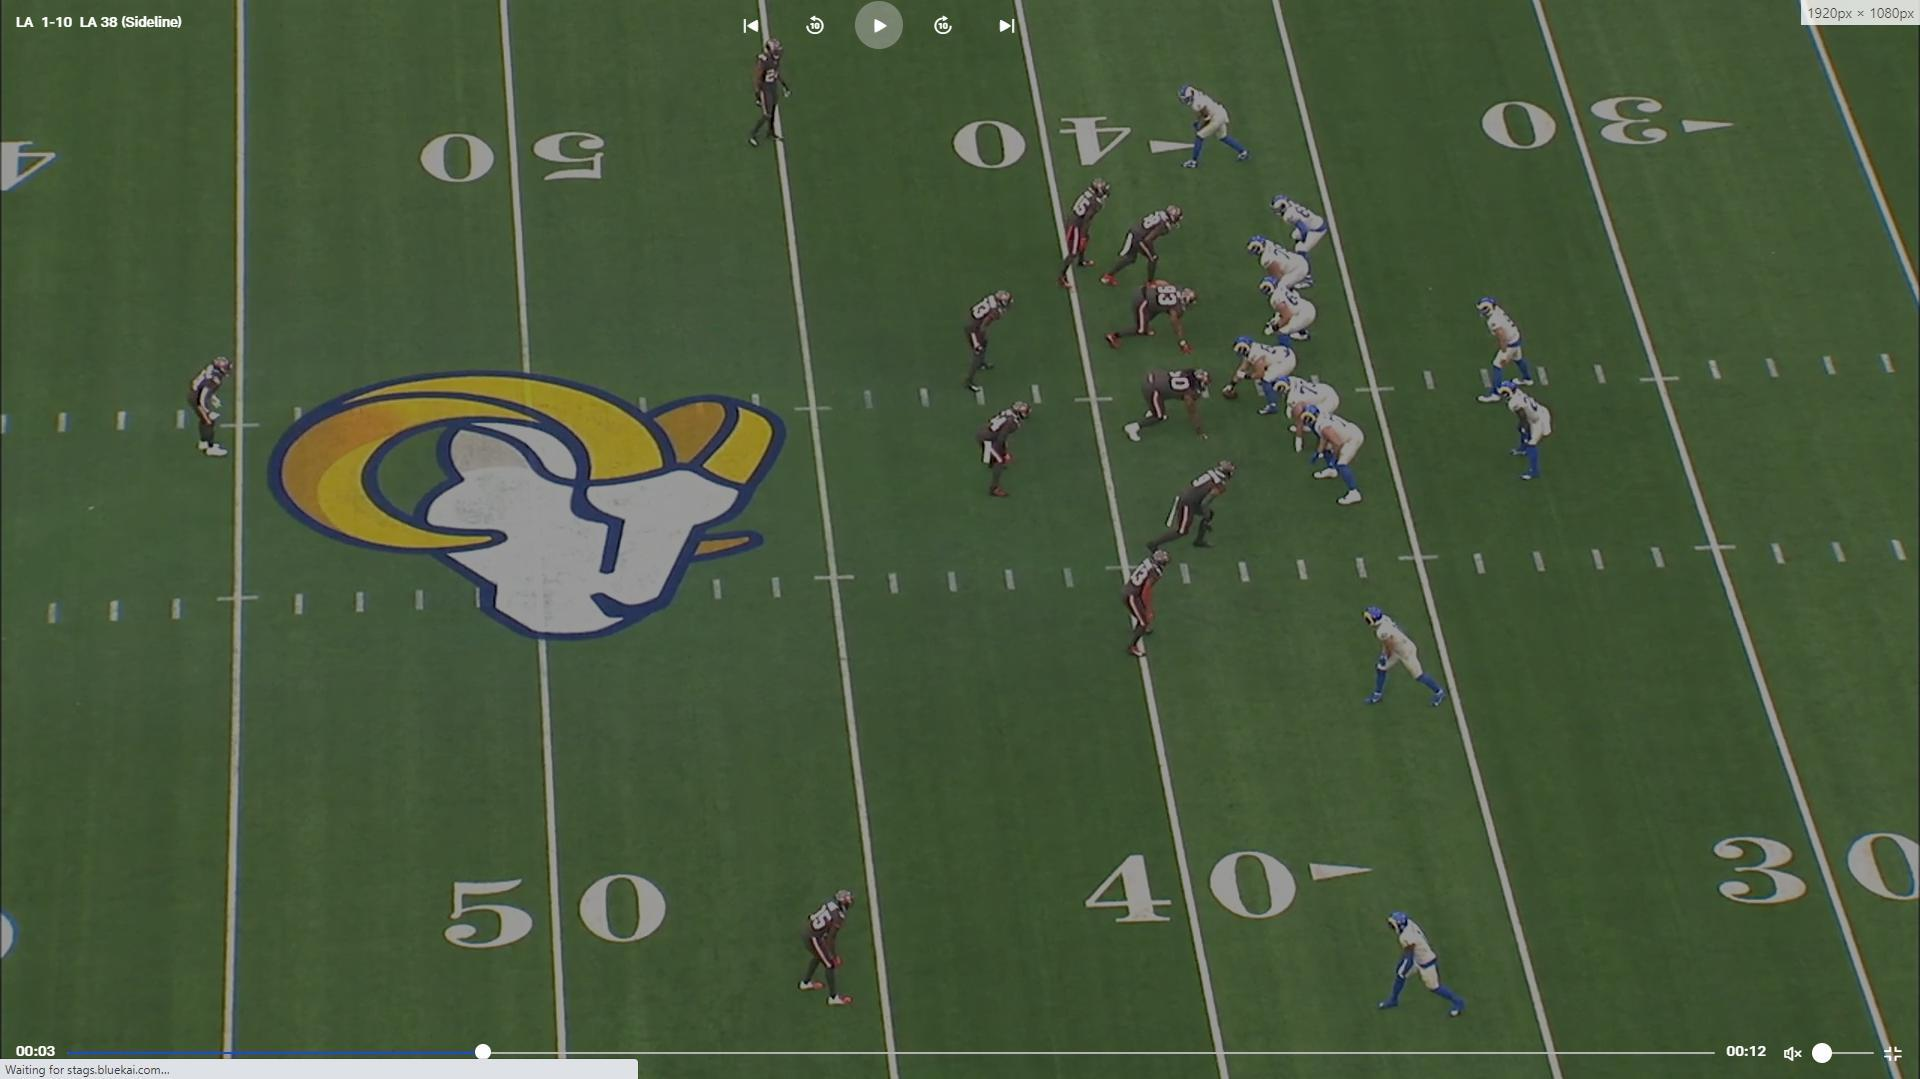defense: (795, 881, 865, 1013), (1150, 459, 1238, 557), (1108, 277, 1207, 356), (1124, 368, 1224, 446), (1104, 200, 1188, 290), (1055, 181, 1113, 297), (978, 400, 1040, 507), (961, 286, 1019, 394), (1122, 546, 1176, 661), (182, 354, 236, 463), (745, 38, 794, 152)
oline: (1300, 406, 1371, 510), (1224, 332, 1304, 414), (1276, 367, 1344, 454), (1258, 276, 1320, 357), (1249, 235, 1316, 294)
qb: (1473, 293, 1535, 408)
skill: (1370, 901, 1474, 1022), (1354, 601, 1453, 716), (1171, 79, 1258, 174), (1489, 375, 1557, 488), (1267, 193, 1329, 277)
